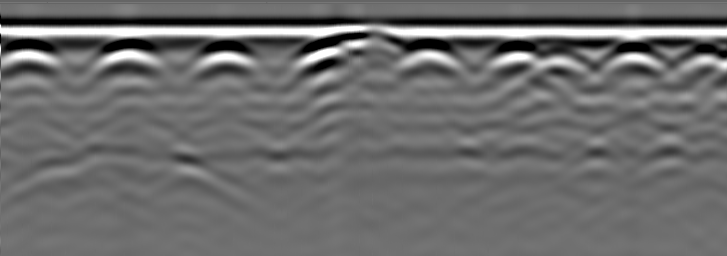pipe: (338, 25, 405, 51)
steel: (92, 41, 161, 76), (400, 43, 461, 79), (609, 45, 666, 81), (536, 49, 598, 79), (195, 44, 253, 75), (2, 46, 59, 76), (492, 42, 537, 73)
